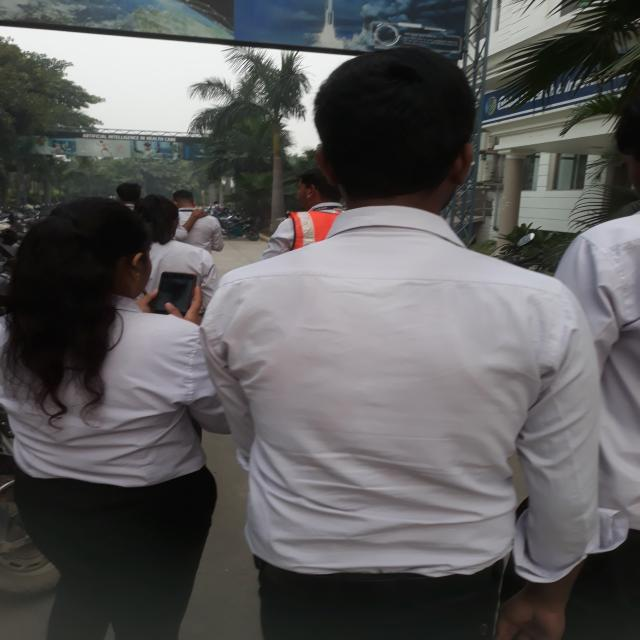unsafe: (199, 45, 604, 640), (0, 187, 232, 640)
